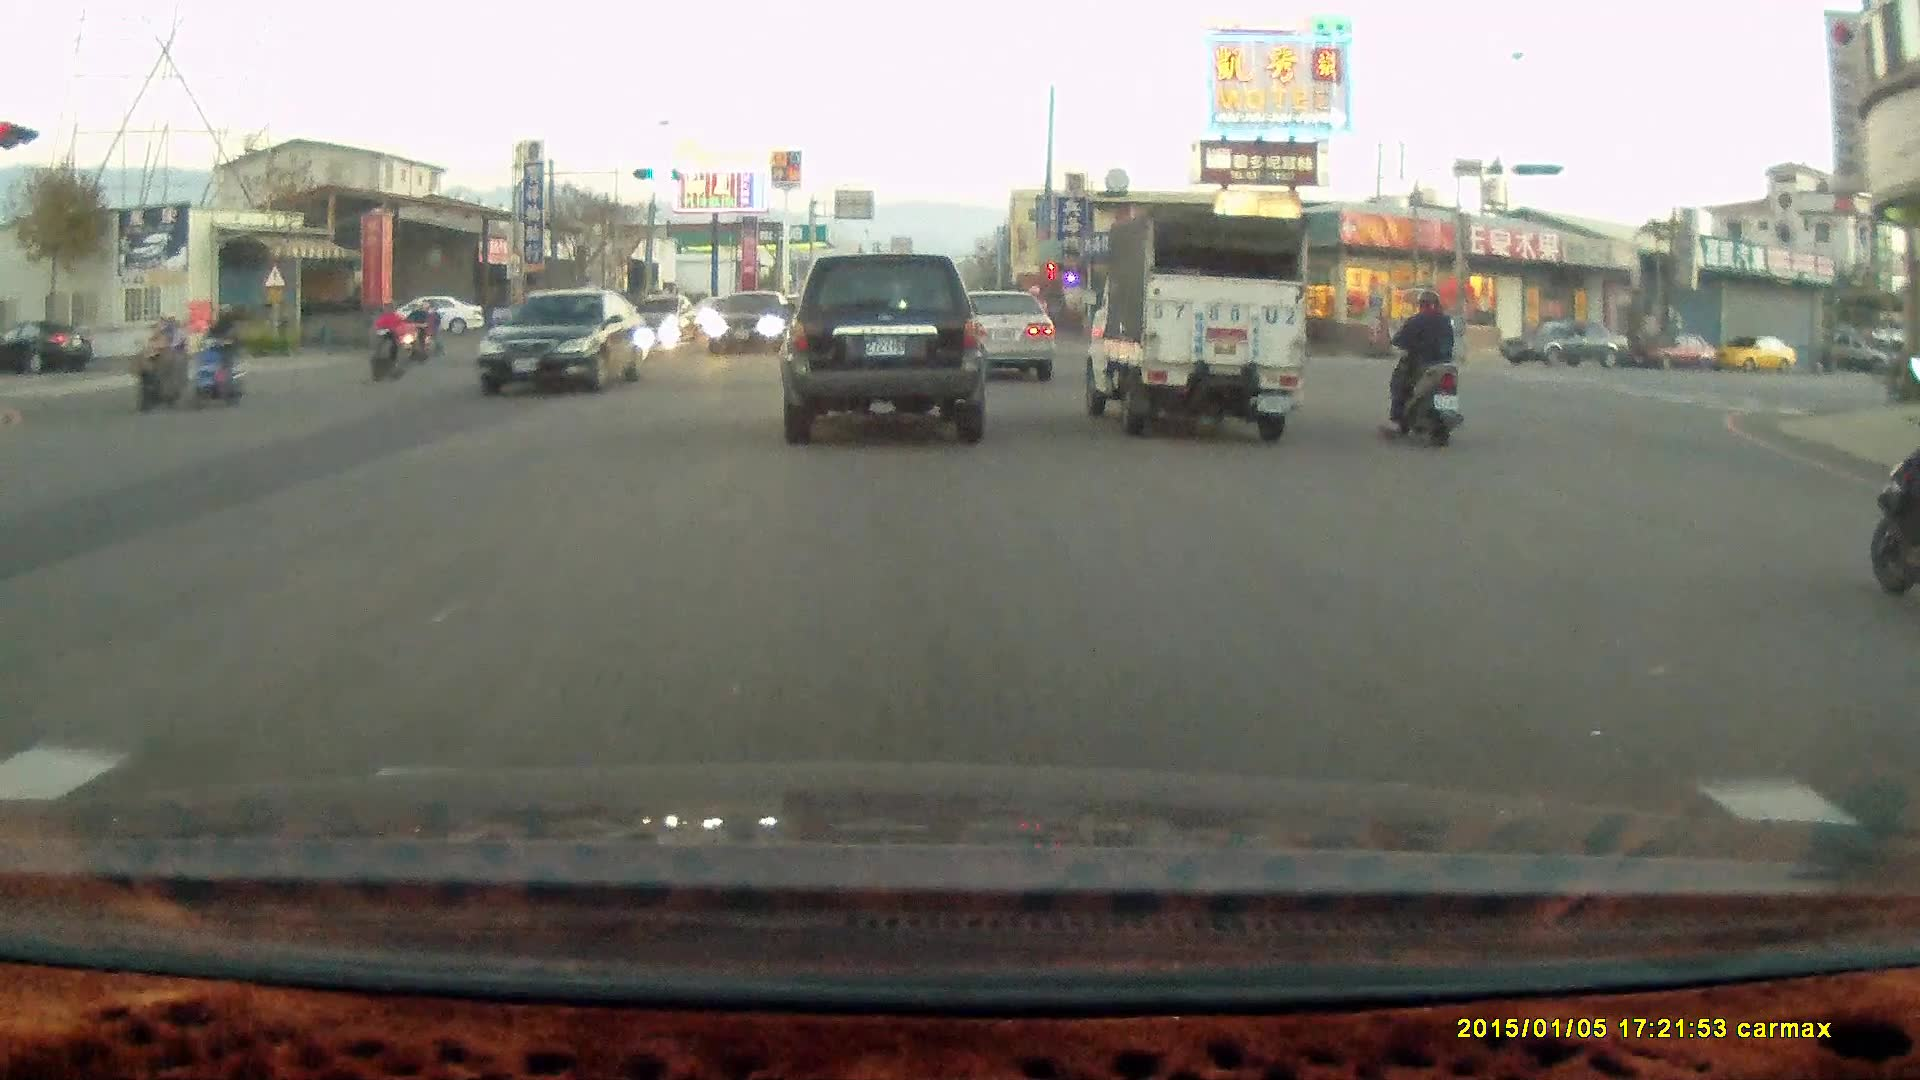rider: (1377, 284, 1463, 447), (1867, 409, 1920, 600), (127, 311, 194, 415), (178, 306, 242, 410), (367, 295, 416, 379)
vehicle: (1075, 209, 1307, 440), (778, 251, 987, 447), (482, 289, 656, 398), (937, 286, 1055, 382), (950, 288, 1061, 384), (1499, 319, 1635, 369), (703, 289, 798, 359), (393, 295, 487, 338), (1636, 334, 1721, 376), (1714, 334, 1800, 374)
